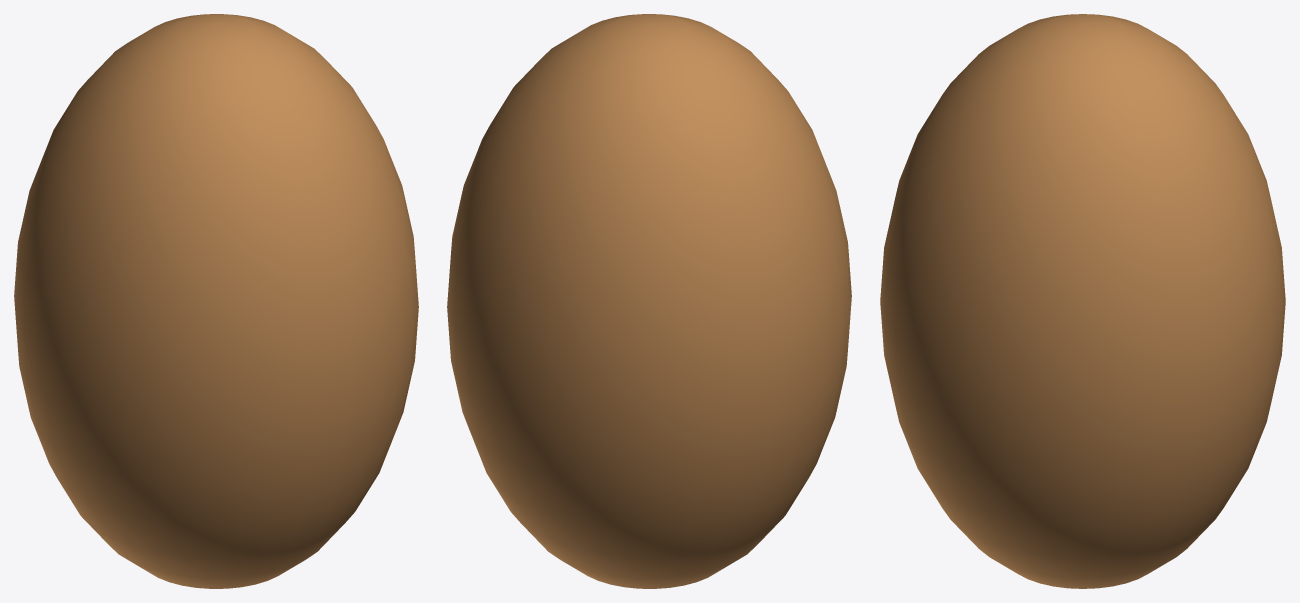
Rendered from Egg.glb.
3 renders of one model, left to right at view 1: azimuth 30°, elevation 25°; view 2: azimuth 150°, elevation 25°; view 3: azimuth 270°, elevation 25°, orthographic.
Parts seen in each view (by area): view 1: Sphere; view 2: Sphere; view 3: Sphere.
Part boxes in pixels (<box>): Sphere: <box>14,14,418,588</box>; Sphere: <box>447,14,851,588</box>; Sphere: <box>880,14,1285,588</box>.
Size of the model in its own units: 0.4 by 0.6 by 0.4.
